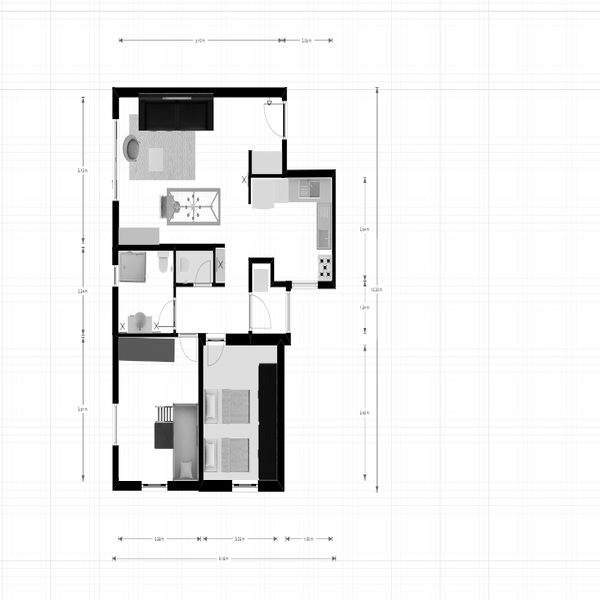door: (242, 285, 277, 336), (258, 95, 287, 141), (204, 334, 231, 372), (175, 333, 198, 367), (153, 303, 177, 333), (190, 262, 216, 286)
room: (107, 83, 287, 245), (107, 242, 294, 348), (103, 334, 212, 496), (190, 331, 292, 495), (236, 173, 339, 297)
wall: (323, 164, 345, 297), (113, 85, 289, 101), (271, 336, 287, 489), (105, 287, 124, 404), (195, 327, 209, 481), (117, 239, 229, 257), (274, 164, 338, 184), (264, 245, 291, 289), (230, 331, 293, 349), (166, 477, 232, 494), (167, 243, 185, 302), (118, 329, 183, 344), (110, 202, 123, 269), (277, 135, 293, 185), (241, 144, 254, 203), (111, 481, 142, 502), (246, 248, 260, 294), (248, 254, 278, 268), (247, 168, 283, 179), (113, 443, 119, 494)
window: (111, 119, 127, 204), (107, 406, 125, 445), (142, 480, 167, 498), (233, 478, 261, 494)
